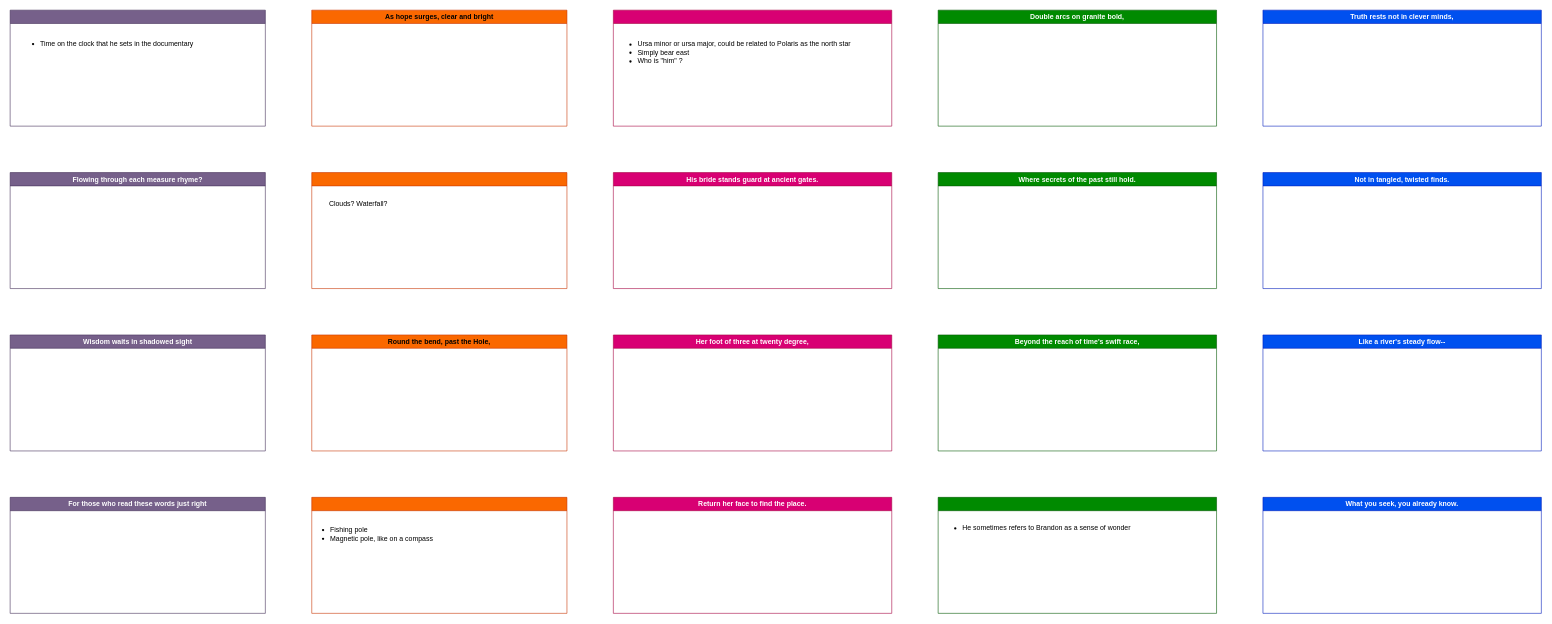
Image size: 1552x624. Some labels were removed from this diagram. Here are the shapes that lost their labels. From the top down, the box of each, then its label:
(10, 10, 265, 126): Can you find what lives in time
(613, 10, 892, 126): In ursa east his realm awaits;
(311, 172, 567, 289): Walk near waters' silent flight.
(311, 497, 567, 613): I wait for you to cast your pole.
(938, 497, 1217, 613): Wonder guards this sacred space.
